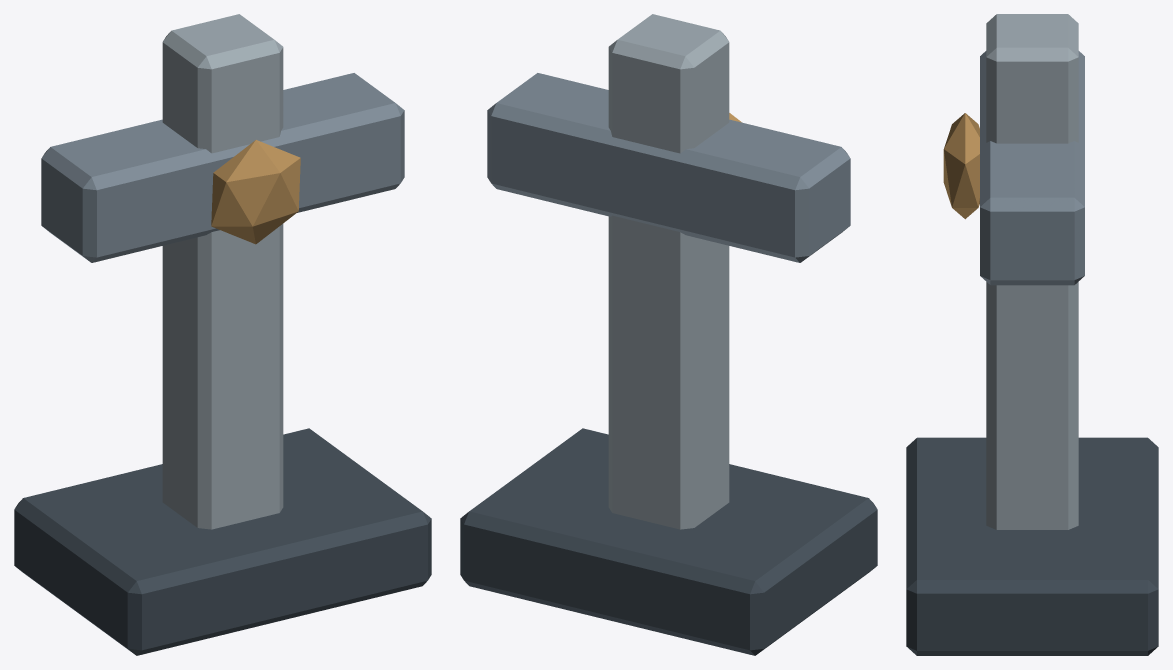
The model's file is L01R_CrossGrave.fbx.
3 renders of one model, left to right at view 1: azimuth 30°, elevation 25°; view 2: azimuth 150°, elevation 25°; view 3: azimuth 270°, elevation 25°, orthographic.
Parts seen in each view (by area): view 1: L01R_CrossGrave; view 2: L01R_CrossGrave; view 3: L01R_CrossGrave.
Boxes of the visible parts, <box> form: L01R_CrossGrave: <box>14,14,431,655</box>; L01R_CrossGrave: <box>460,14,877,655</box>; L01R_CrossGrave: <box>906,14,1158,655</box>.
Size of the model in its own units: 90 by 146 by 60.
